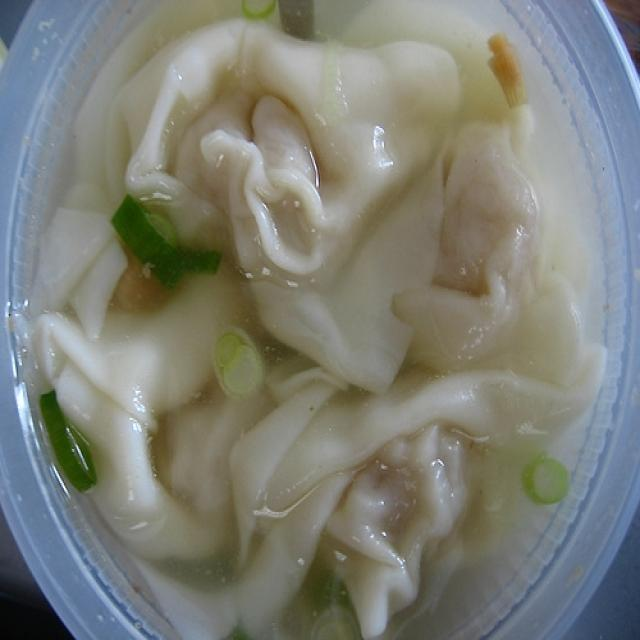汤锅炖物: (44, 17, 602, 618)
